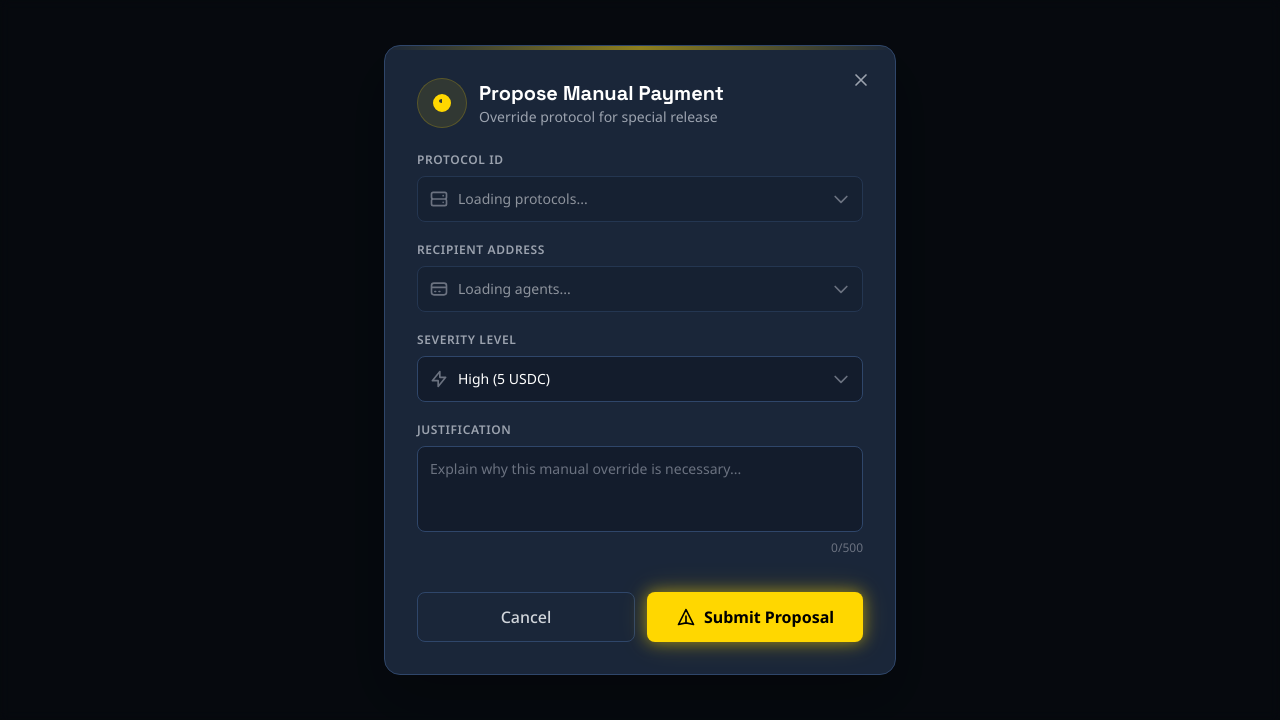
ProposePaymentModal › validates justification length (minimum)
This screenshot has width=1280, height=720.
In the text box with placeholder "Explain why this manual override is necessary...": [640, 489] box [417,446,863,532], type "Too short"
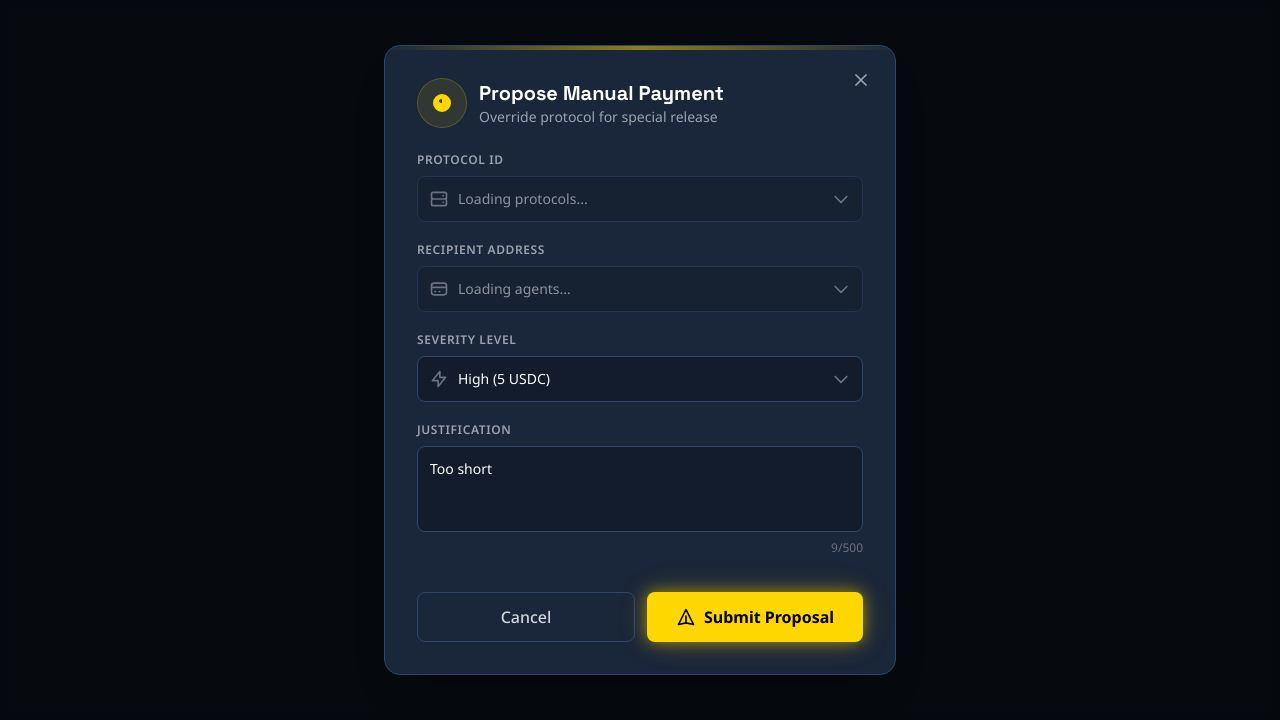
Click the button "Submit Proposal": [755, 617] box [647,592,863,642]
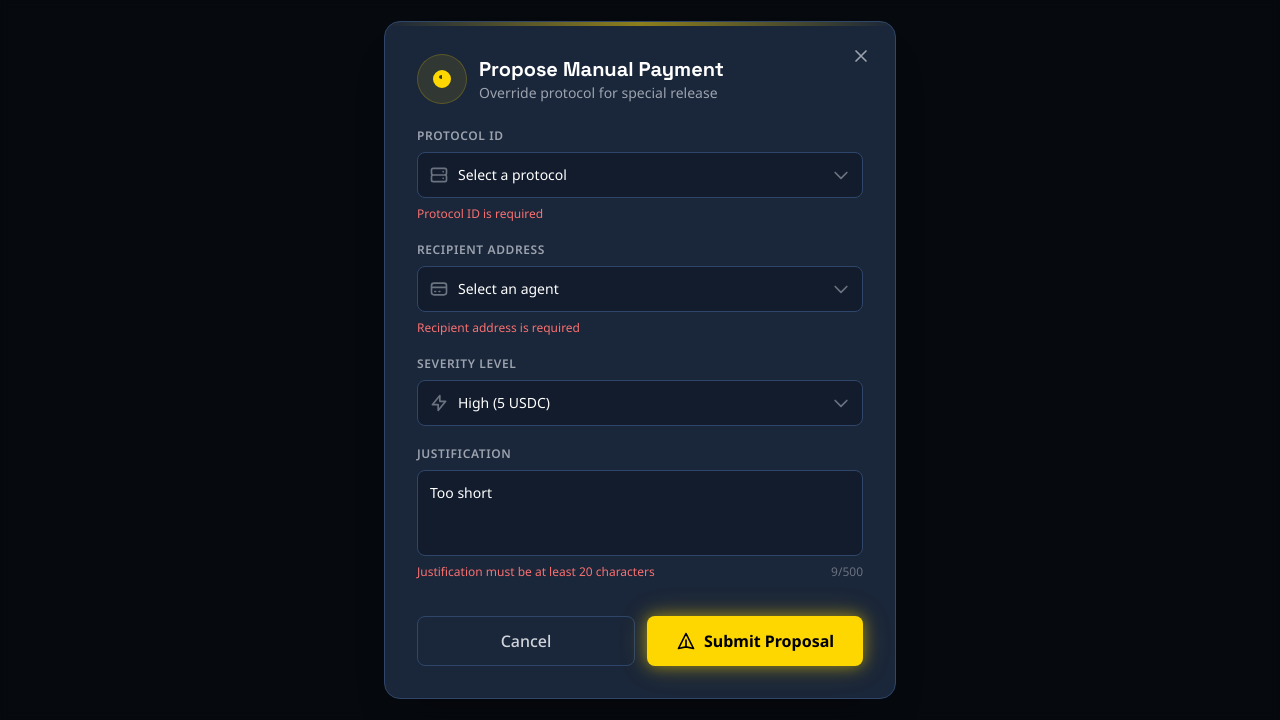
Now the text "Justification must be at least 20 characters" is shown, box [417,564,655,580]
